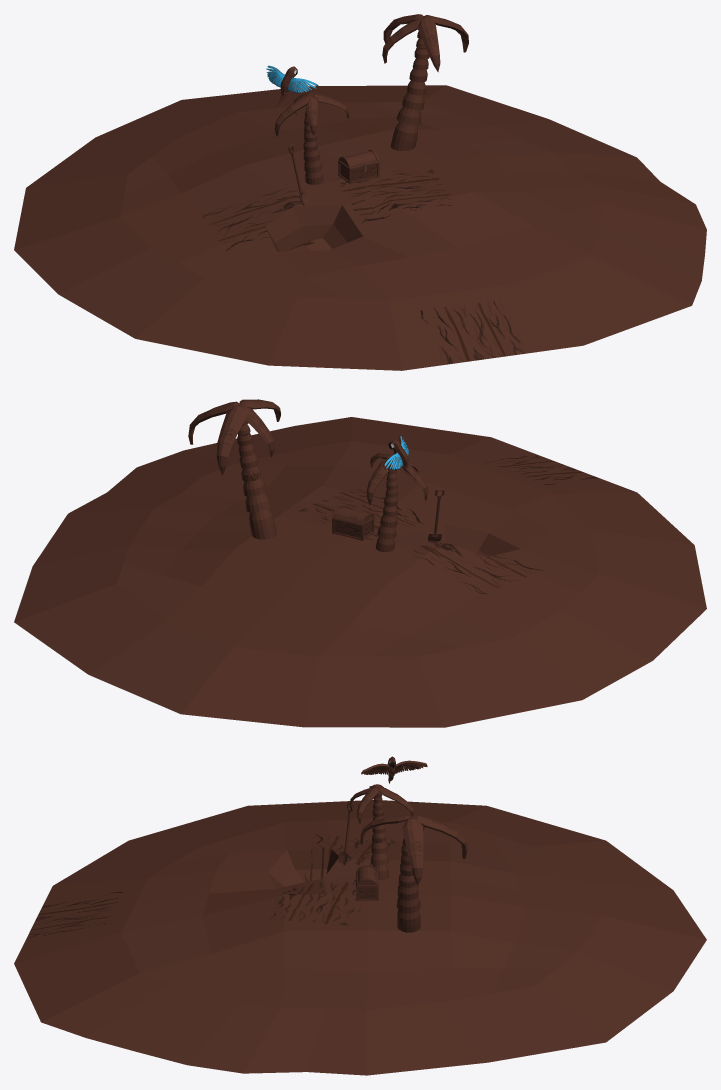
File: ChestWithTexturesScenfgdfgdfgdfesss.fbx
3 renders of one model, top to bottom at view 1: azimuth 30°, elevation 25°; view 2: azimuth 150°, elevation 25°; view 3: azimuth 270°, elevation 25°, orthographic. The views are drawn at different scales.
Parts seen in each view (by area): view 1: Sand, Cylinder.003, Cylinder.002, Plane.008, Cube.002, ChestBox; view 2: Sand, Cylinder.003, Cylinder.002, Plane.005, ChestBox, Plane.007, ChestLid; view 3: Sand, Cylinder.003, Cylinder.002, Plane.006, Plane.005, Cube.002.
Part boxes in pixels (<box>): Sand: <box>14,85,706,370</box>; Cylinder.003: <box>390,29,429,151</box>; Cylinder.002: <box>303,107,323,184</box>; Plane.008: <box>417,18,440,72</box>; Cube.002: <box>266,65,318,93</box>; ChestBox: <box>338,161,379,183</box>; Sand: <box>14,417,706,727</box>; Cylinder.003: <box>237,420,276,539</box>; Cylinder.002: <box>375,470,397,551</box>; Plane.005: <box>216,404,247,475</box>; ChestBox: <box>332,518,374,540</box>; Plane.007: <box>242,404,274,457</box>; ChestLid: <box>332,506,374,525</box>; Sand: <box>14,800,706,1075</box>; Cylinder.003: <box>396,838,420,932</box>; Cylinder.002: <box>370,791,389,879</box>; Plane.006: <box>402,817,423,885</box>; Plane.005: <box>411,814,467,858</box>; Cube.002: <box>361,760,427,774</box>.
Size of the model in its own units: 5783 by 1645 by 6143.
Materials: 23 (18 with a texture image).
